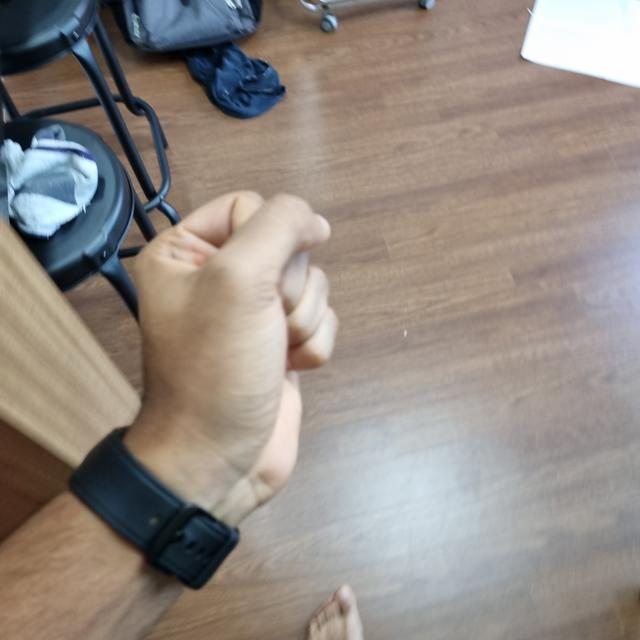Rock: (128, 191, 332, 494)
